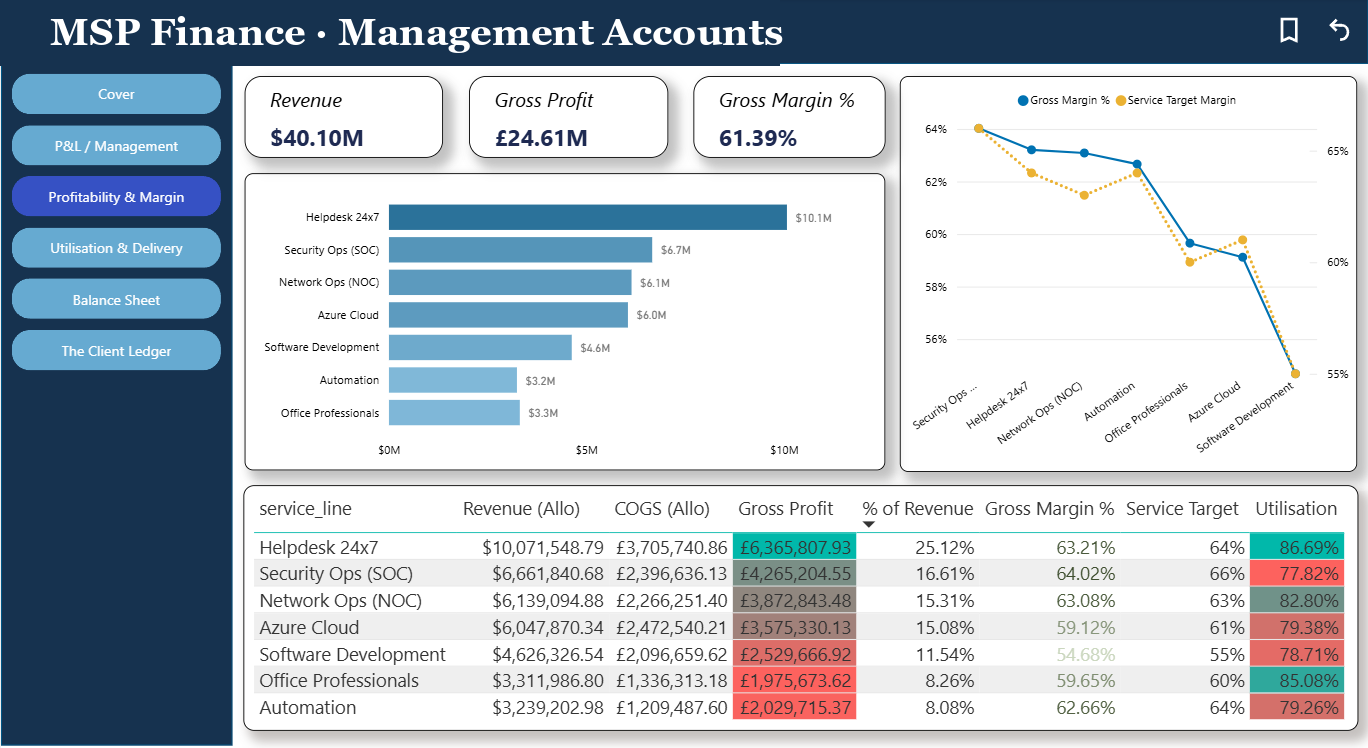

The page's visual inventory and layout, read from the dashboard file:
{"tool":"powerbi","page":{"name":"Profitability & Margin","canvas":[1280,720],"ordinal":2},"visuals":[{"type":"shape","box":[0,0,216.9,700.1],"z":0,"group":"g1"},{"type":"cardVisual","fields":{"Data":["_Measures.Revenue (Allo)"]},"box":[228.1,73,185.4,76.4],"z":0},{"type":"shape","box":[0,0,1280.6,61.9],"z":1000,"group":"g1"},{"type":"cardVisual","fields":{"Data":["_Measures.Gross Profit"]},"box":[438.3,73,186.5,76.4],"z":1000},{"type":"clusteredBarChart","fields":{"Category":["dim_service.service_line"],"Y":["_Measures.Revenue (Allo)"]},"box":[228.1,164.1,600.1,278.7],"z":2000},{"type":"textbox","title":"RVS iGlobal · Management Accounts","box":[0,0,718.6,61.3],"z":3000,"group":"g1"},{"type":"lineChart","fields":{"Category":["dim_service.service_line"],"Y":["_Measures.Gross Margin %"],"Y2":["_Measures.Service Target Margin"]},"box":[841.7,73,428.2,370.8],"z":3000},{"type":"cardVisual","fields":{"Data":["_Measures.Gross Margin %"]},"box":[648.4,73,179.8,76.4],"z":4000},{"type":"tableEx","fields":{"Values":["dim_service.category Hierarchy.service_line","_Measures.Revenue (Allo)","_Measures.COGS (Allo)","_Measures.Gross Profit","_Measures.% of Firm Revenue","_Measures.Gross Margin %","_Measures.Service Target Margin","_Measures.Utilisation"]},"box":[227,456.2,1044,230.4],"z":5000},{"type":"group","id":"g1","title":"Group 2","box":[0,0,1280.6,700.1],"z":9000},{"type":"actionButton","box":[1238.2,14.9,32.1,29.8],"z":9500},{"type":"actionButton","title":"Margin Story","box":[1190.1,4.6,32.3,51.2],"z":10000},{"type":"pageNavigator","box":[10.1,70.8,196.7,280.9],"z":16000,"group":"g1"}]}

Visuals, with their boxes in screenshot pixels (x1, y1, x2, y2), scaled from the page's 1280x720 canvas onto the 1368x748 screenshot:
shape: x1=0 y1=0 x2=232 y2=727
cardVisual - _Measures.Revenue (Allo): x1=244 y1=76 x2=442 y2=155
shape: x1=0 y1=0 x2=1367 y2=64
cardVisual - _Measures.Gross Profit: x1=468 y1=76 x2=668 y2=155
clusteredBarChart - dim_service.service_line x _Measures.Revenue (Allo): x1=244 y1=170 x2=885 y2=460
"RVS iGlobal · Management Accounts" textbox: x1=0 y1=0 x2=768 y2=64
lineChart - dim_service.service_line x _Measures.Gross Margin %: x1=900 y1=76 x2=1357 y2=461
cardVisual - _Measures.Gross Margin %: x1=693 y1=76 x2=885 y2=155
tableEx - dim_service.category Hierarchy.service_line x _Measures.Revenue (Allo): x1=243 y1=474 x2=1358 y2=713
"Group 2" group: x1=0 y1=0 x2=1367 y2=727
actionButton: x1=1323 y1=15 x2=1358 y2=46
"Margin Story" actionButton: x1=1272 y1=5 x2=1306 y2=58
pageNavigator: x1=11 y1=74 x2=221 y2=365
